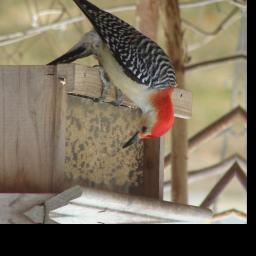Woodpecker: (50, 0, 187, 153)
